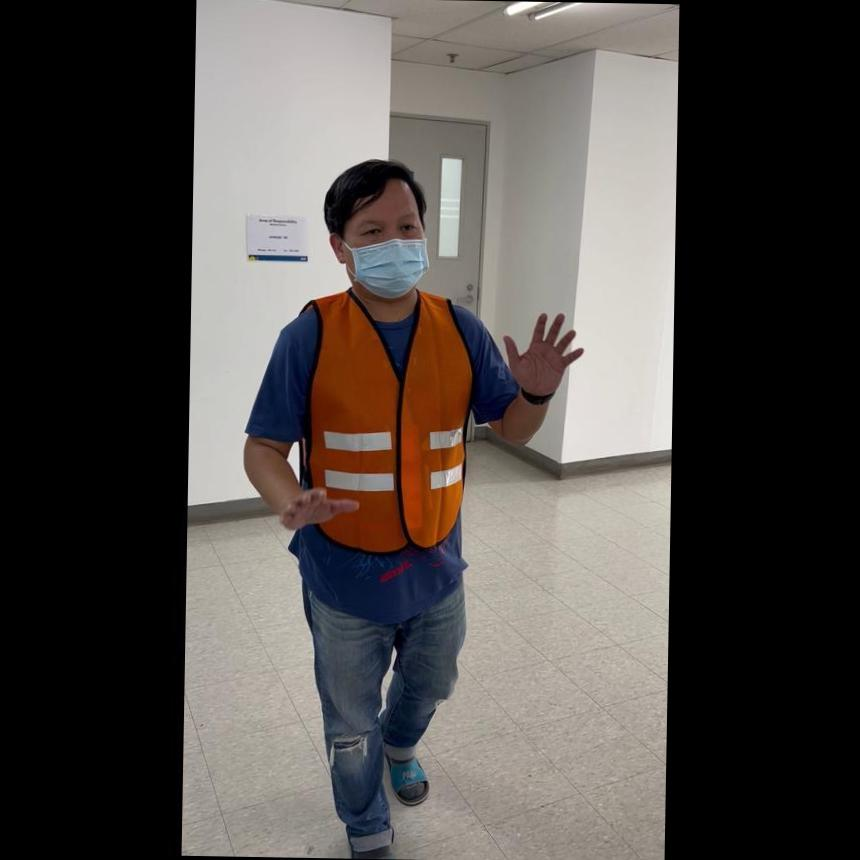No-gloves: (498, 304, 584, 400), (275, 478, 358, 534)
